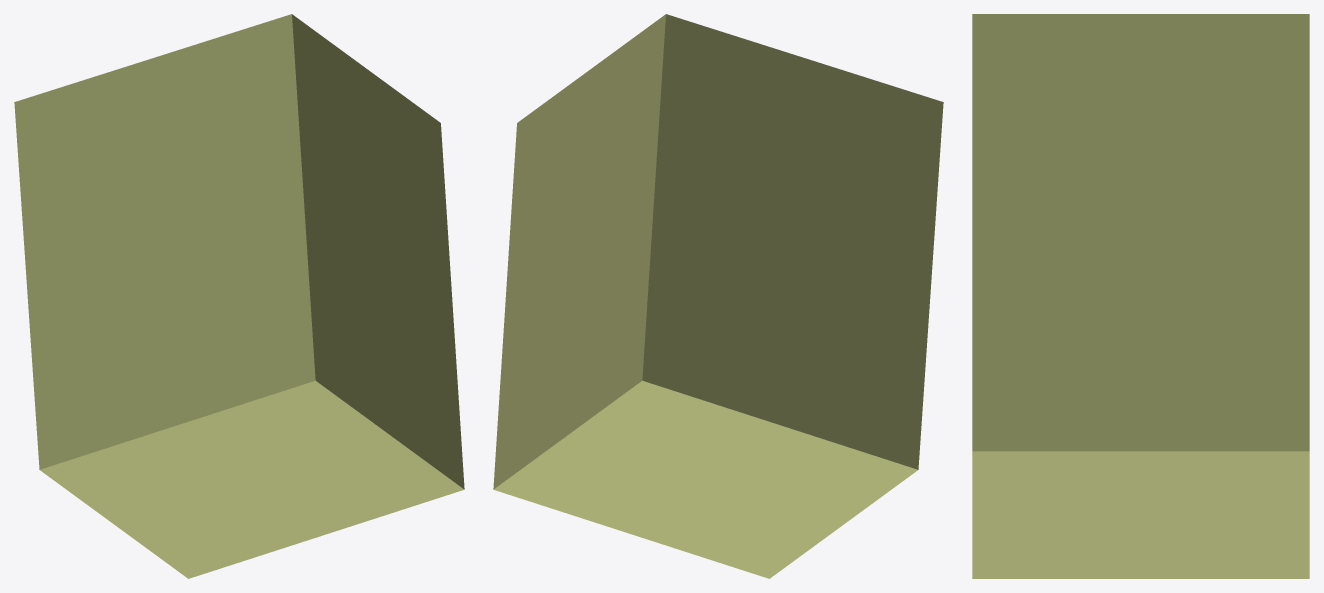
3 views of the same model, side by side, from view 1: azimuth 30°, elevation 25°; view 2: azimuth 150°, elevation 25°; view 3: azimuth 270°, elevation 25° (orthographic). The views are drawn at different scales.
Visible parts, largest first — view 1: 0_1_2_0_0_2_3_0_2_2; view 2: 0_1_2_0_0_2_3_0_2_2; view 3: 0_1_2_0_0_2_3_0_2_2.
Part boxes in pixels (<box>): 0_1_2_0_0_2_3_0_2_2: <box>14,14,464,578</box>; 0_1_2_0_0_2_3_0_2_2: <box>493,14,943,578</box>; 0_1_2_0_0_2_3_0_2_2: <box>972,14,1309,578</box>.
Bounding box in the file's own units: 7 × 8.76 × 6.
